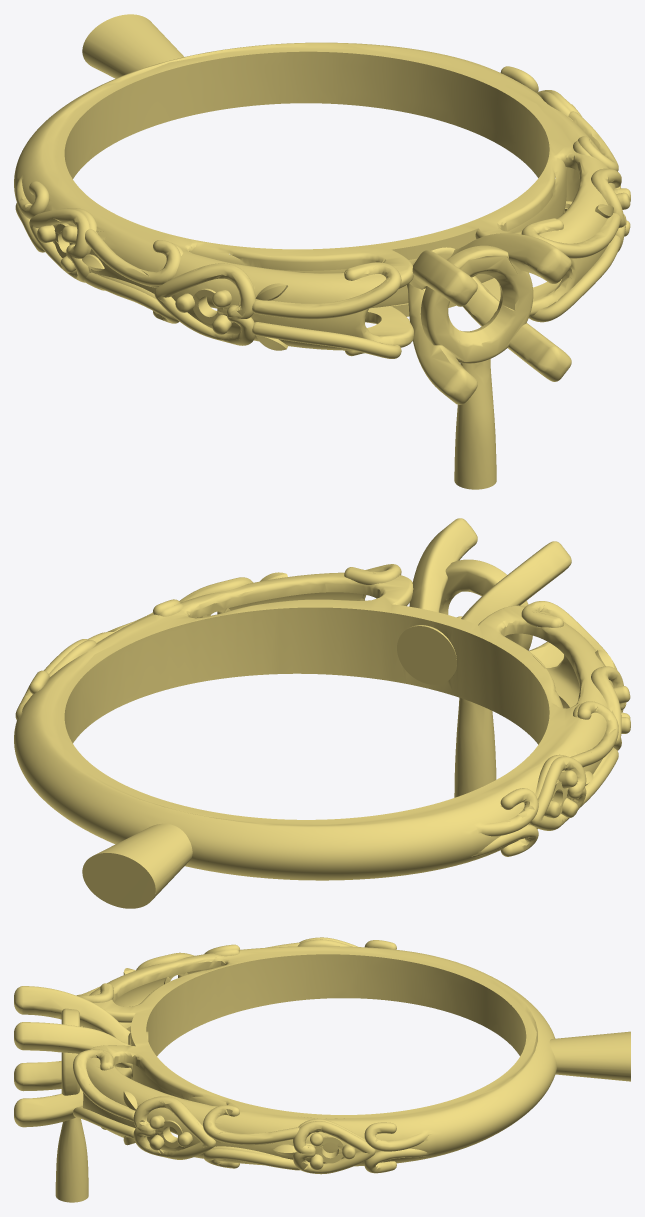
3 views of the same model, one above another, from view 1: azimuth 30°, elevation 25°; view 2: azimuth 150°, elevation 25°; view 3: azimuth 270°, elevation 25° (orthographic). The views are drawn at different scales.
Parts seen in each view (by area): view 1: Renderer Node; view 2: Renderer Node; view 3: Renderer Node.
Boxes of the visible parts, x1=… form: Renderer Node: x1=14, y1=14, x2=630, y2=489; Renderer Node: x1=14, y1=518, x2=630, y2=908; Renderer Node: x1=14, y1=937, x2=630, y2=1202.
Size of the model in its own units: 21.9 by 9.83 by 28.75.
